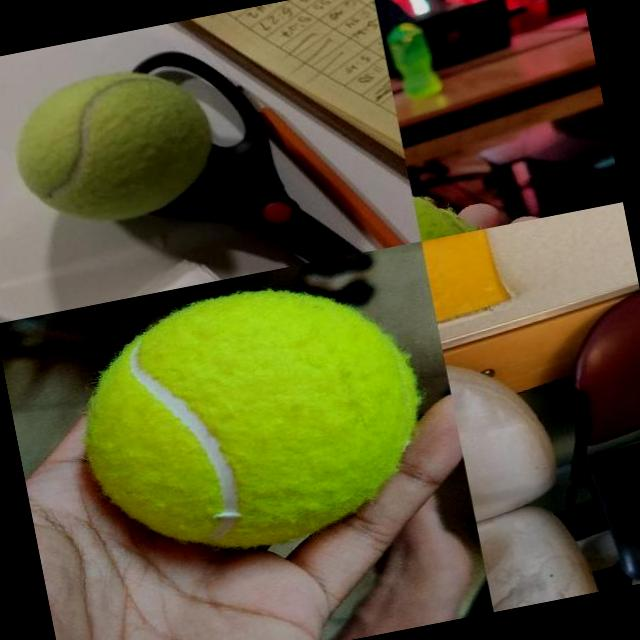tennis-ball: (62, 264, 438, 574), (2, 55, 225, 238)
